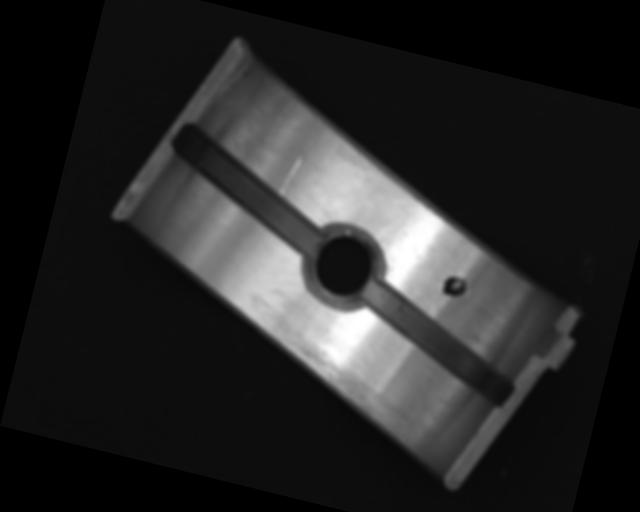blot: (440, 274, 472, 300)
gap: (157, 121, 338, 257), (346, 278, 530, 407)
hole: (298, 217, 390, 316)
nick: (279, 153, 302, 199)
scratch: (260, 334, 422, 443)
